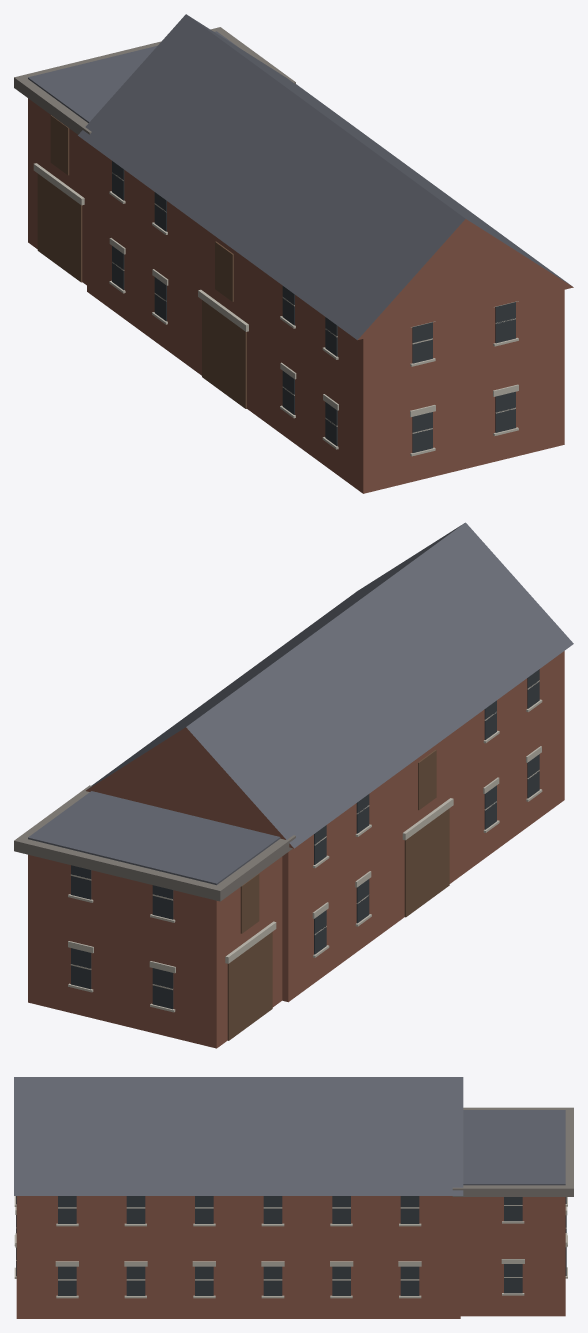
The model's file is house_2114_calumet_coach_house__draft_1904.glb.
3 views of the same model, one above another, from view 1: azimuth 30°, elevation 25°; view 2: azimuth 150°, elevation 25°; view 3: azimuth 270°, elevation 25° (orthographic). The views are drawn at different scales.
Visible parts, largest first — view 1: house_2114_calumet_coach_house__draft_1904; view 2: house_2114_calumet_coach_house__draft_1904; view 3: house_2114_calumet_coach_house__draft_1904.
Part boxes in pixels (x1,y1,x2,y2): house_2114_calumet_coach_house__draft_1904: (14,14,573,493); house_2114_calumet_coach_house__draft_1904: (14,522,573,1048); house_2114_calumet_coach_house__draft_1904: (14,1077,573,1318).
Bounding box in the file's own units: 8.6 × 9.56 × 23.97.
